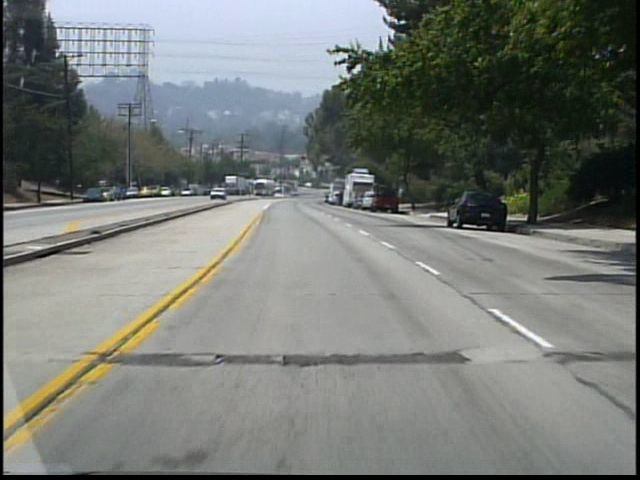person: (393, 183, 404, 209)
